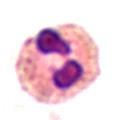eosi: (15, 22, 103, 104)
